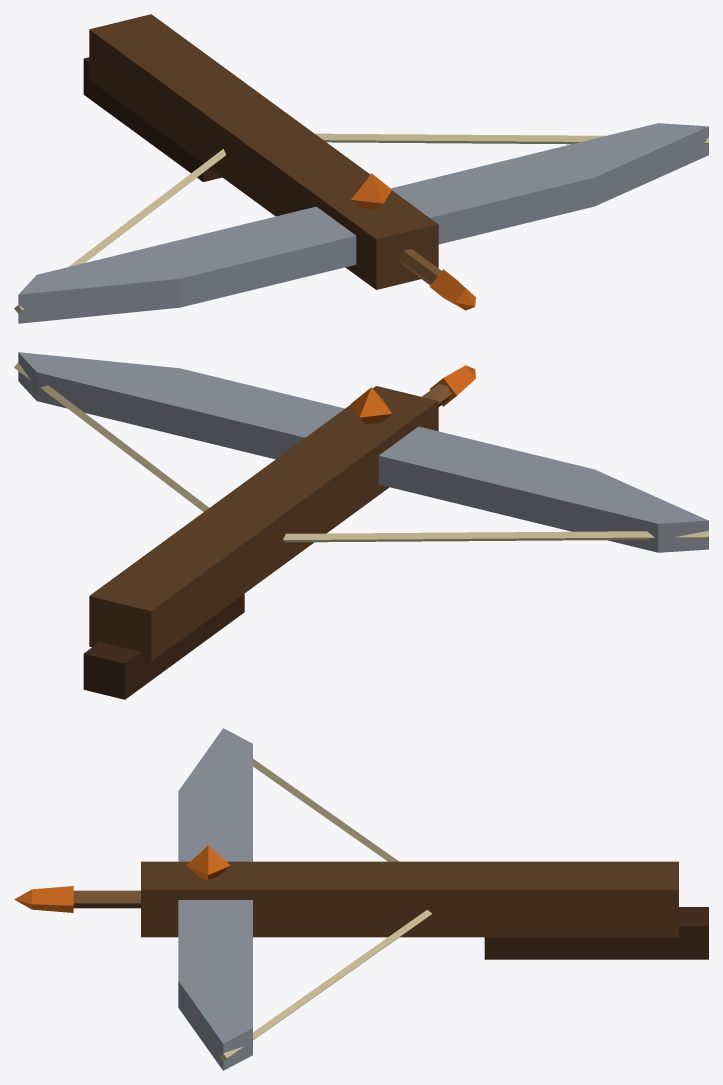
Rendered from 13_Crossbow.glb.
3 views of the same model, one above another, from view 1: azimuth 30°, elevation 25°; view 2: azimuth 150°, elevation 25°; view 3: azimuth 270°, elevation 25° (orthographic). The views are drawn at different scales.
Parts seen in each view (by area): view 1: 13_Crossbow; view 2: 13_Crossbow; view 3: 13_Crossbow.
Boxes of the visible parts, x1=… form: 13_Crossbow: x1=14, y1=14, x2=708, y2=323; 13_Crossbow: x1=14, y1=352, x2=708, y2=699; 13_Crossbow: x1=14, y1=728, x2=708, y2=1070.
Bounding box in the file's own units: 1.01 × 0.155 × 0.93.
